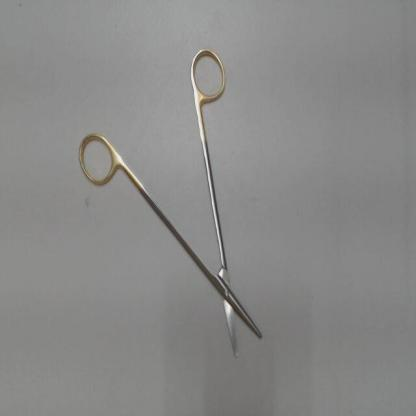7 Metzenbaum Scissors: (75, 41, 268, 363)
